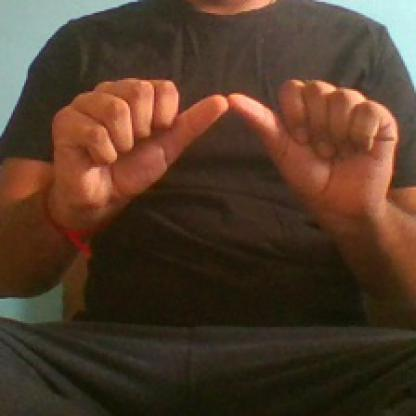A: (41, 68, 397, 241)
